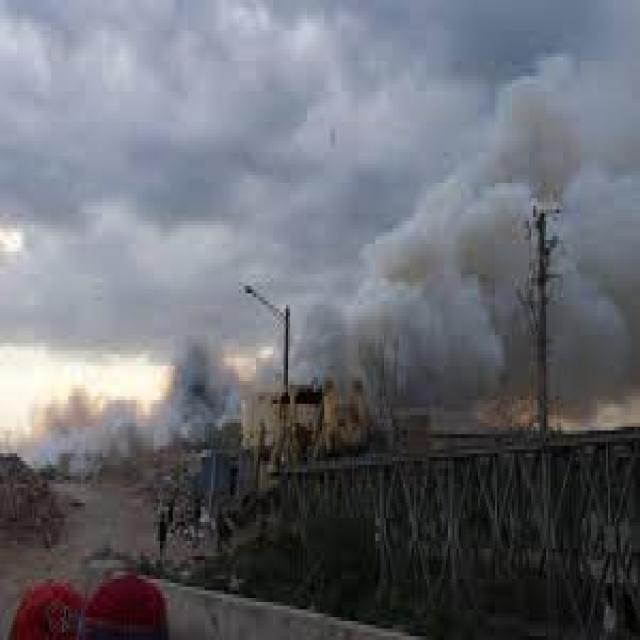Smoke: (0, 51, 640, 486)
